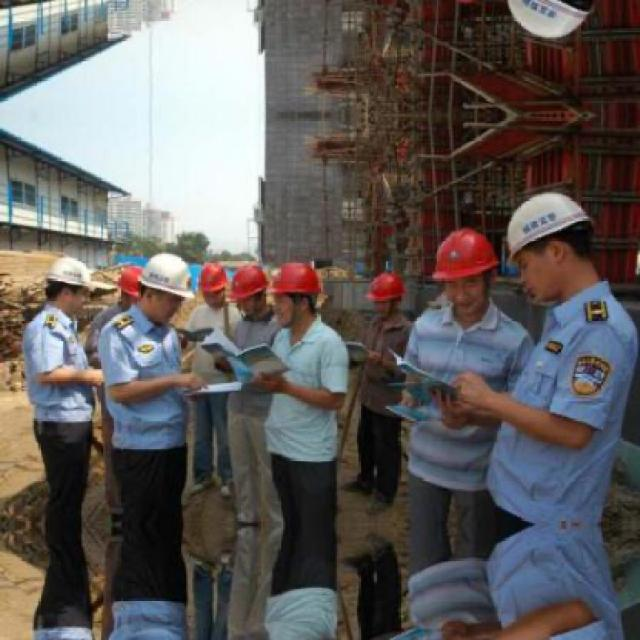helmet: (503, 189, 602, 303), (431, 230, 498, 316), (136, 250, 192, 324), (265, 260, 323, 329), (503, 0, 603, 40), (43, 251, 97, 315), (226, 258, 268, 320), (194, 261, 229, 314), (365, 274, 406, 318), (115, 266, 148, 311)
